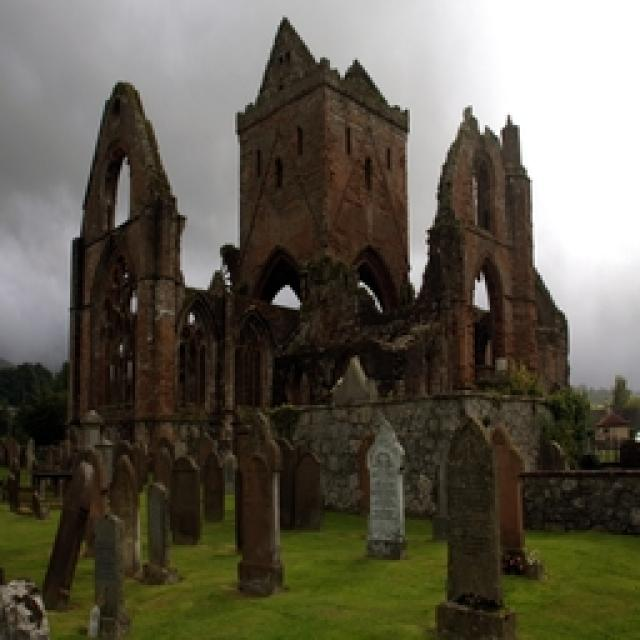Abbey: (50, 25, 616, 577)
